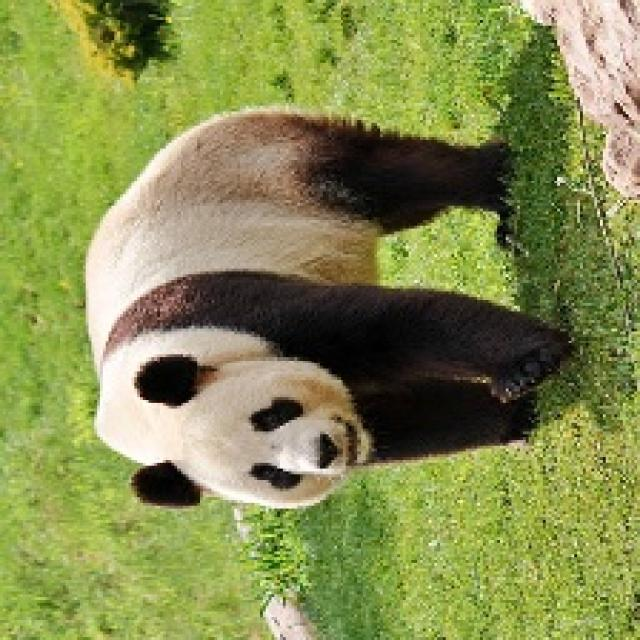animal: (89, 82, 557, 568)
